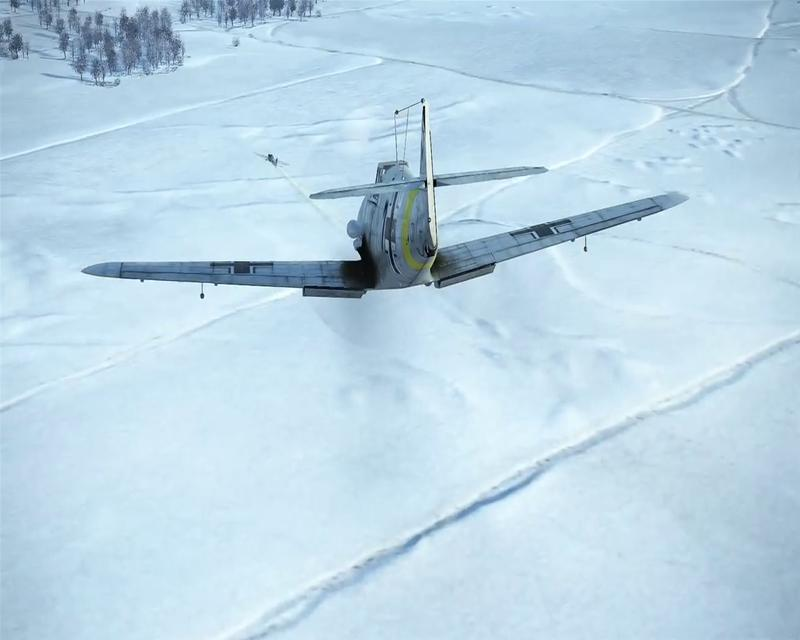UAV: (79, 98, 691, 298)
